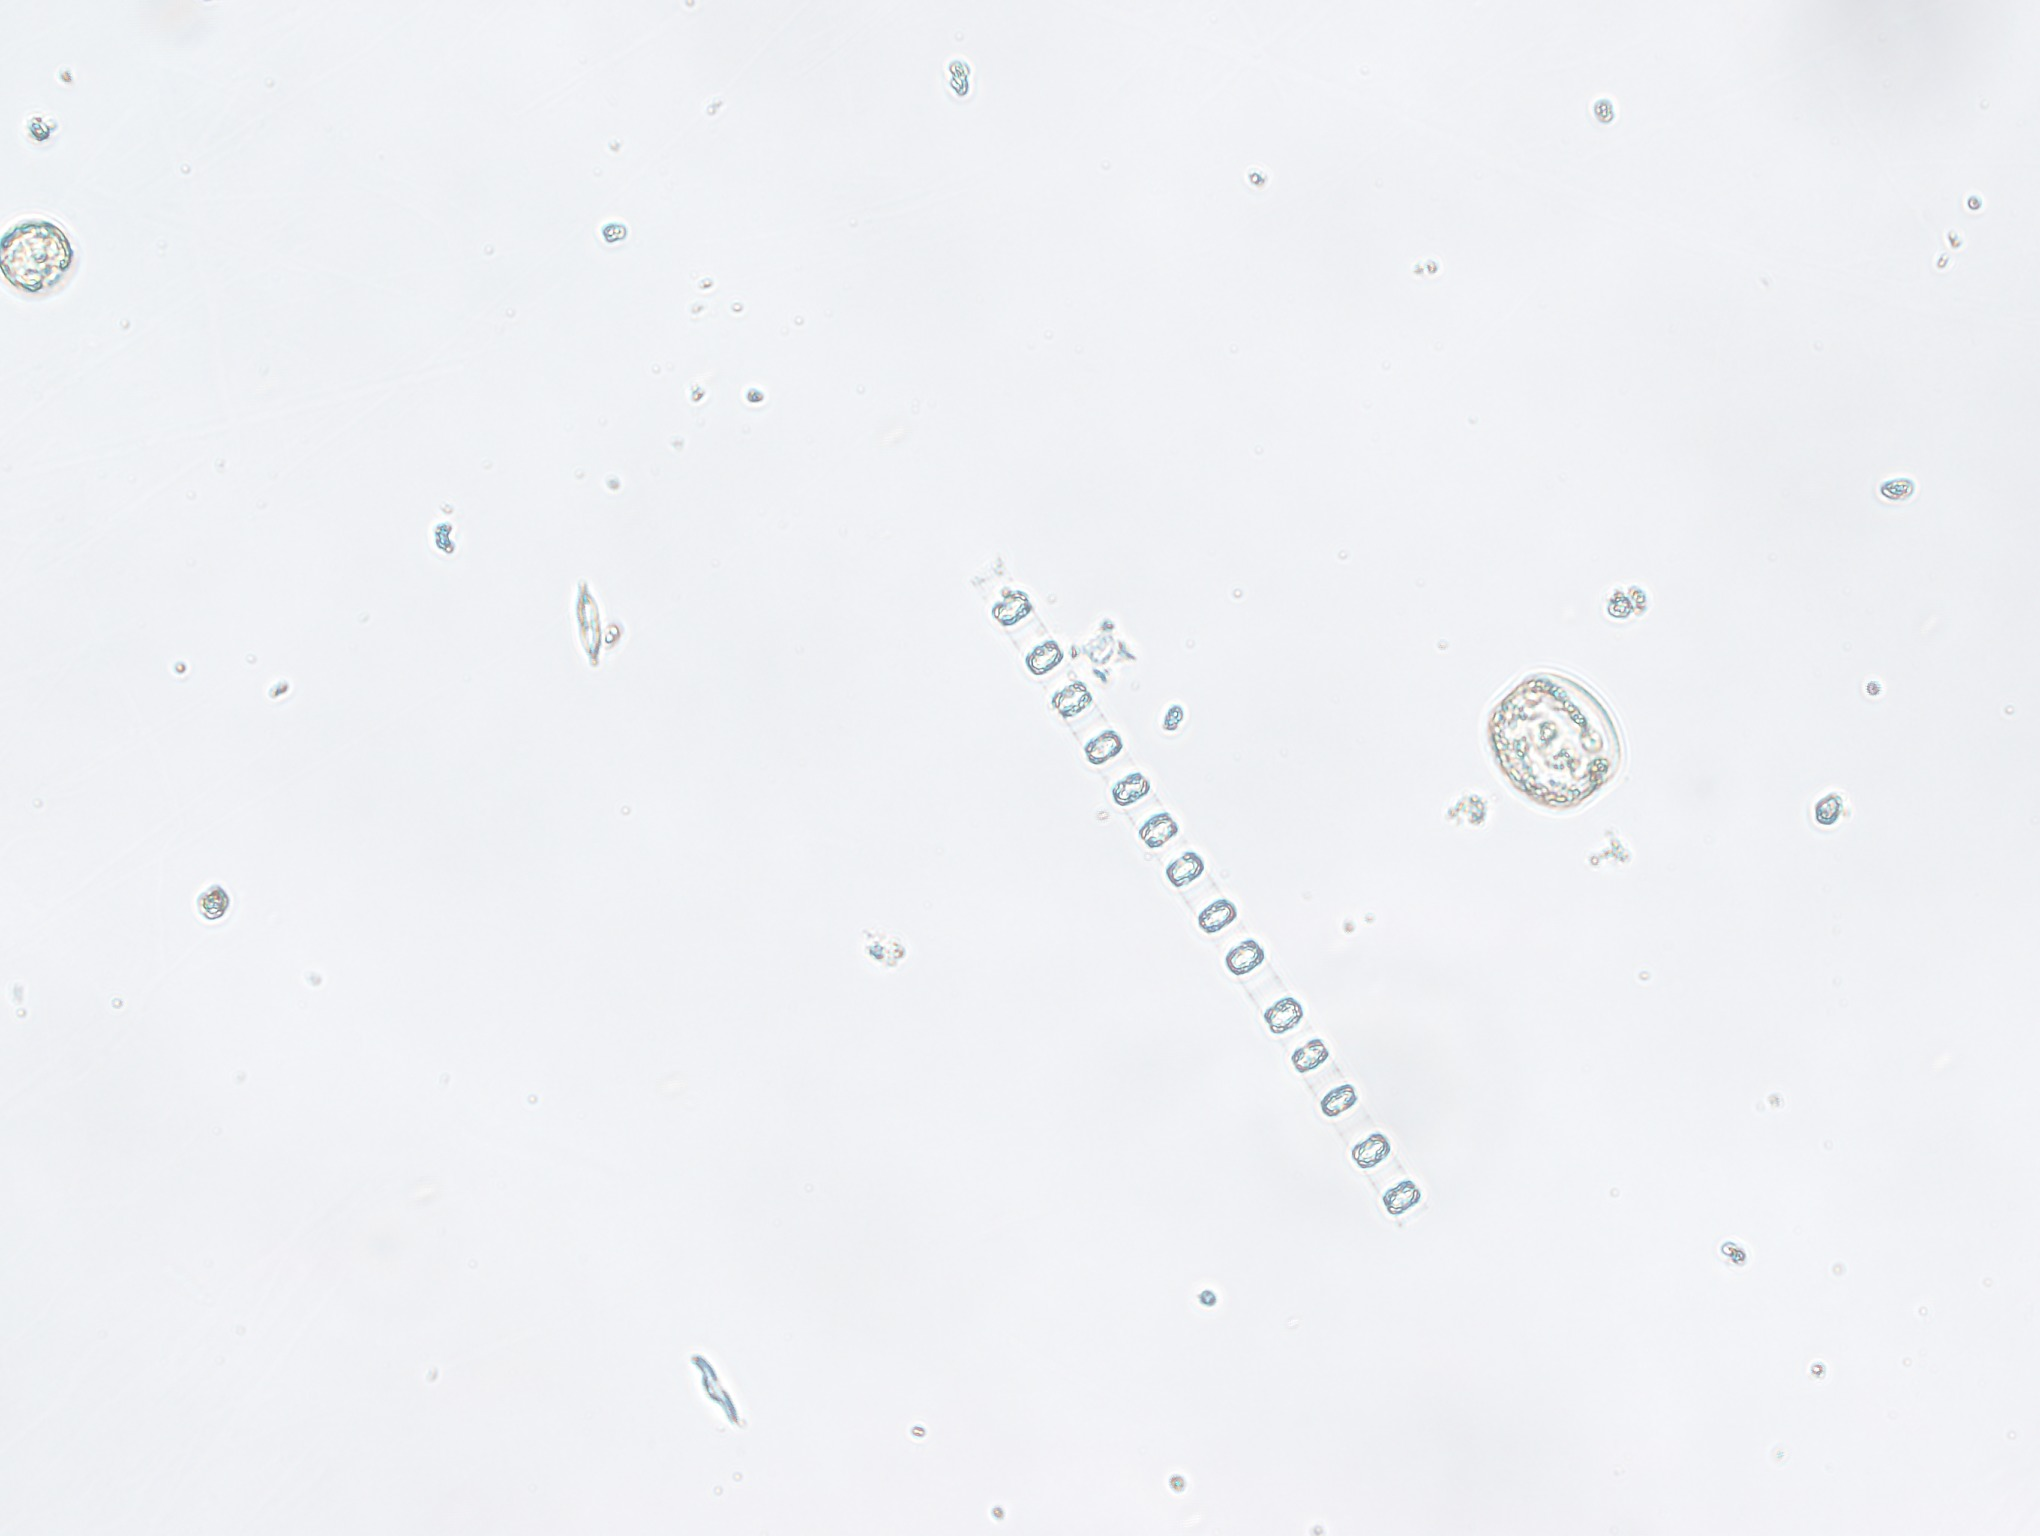skeletonema: (951, 541, 1438, 1241)
